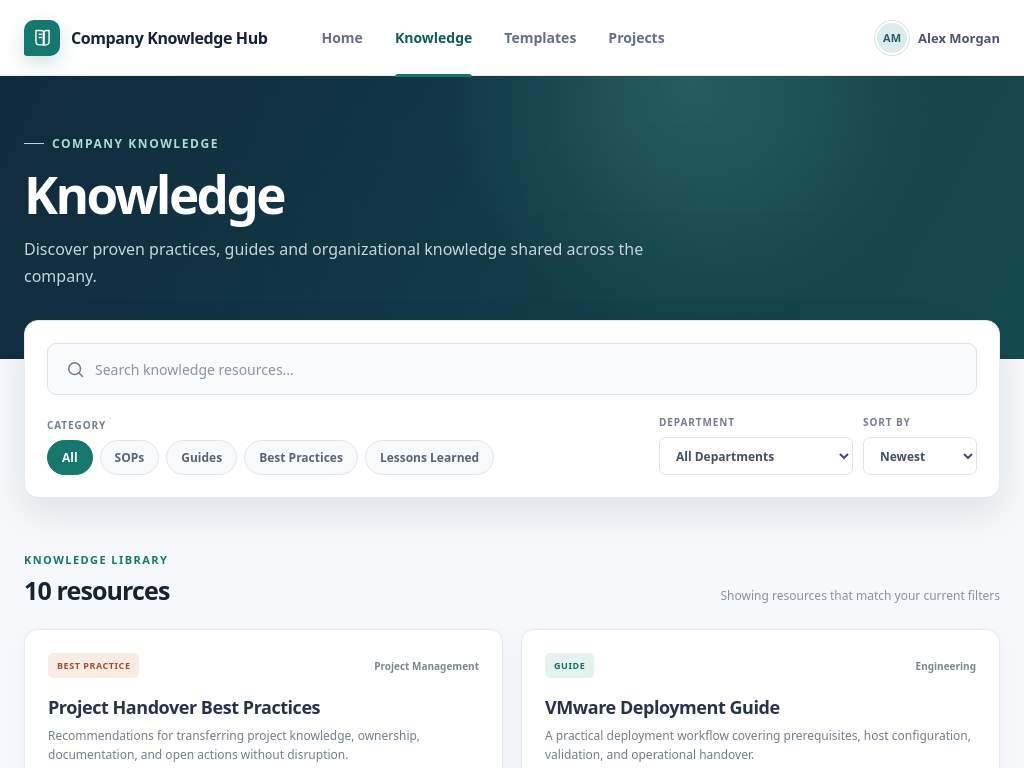
Test: KnowledgePage › searches across the local resource data
Type "VMware" into the search field labelled "Search knowledge resources". click: (536, 369)
box: [95, 344, 976, 394]
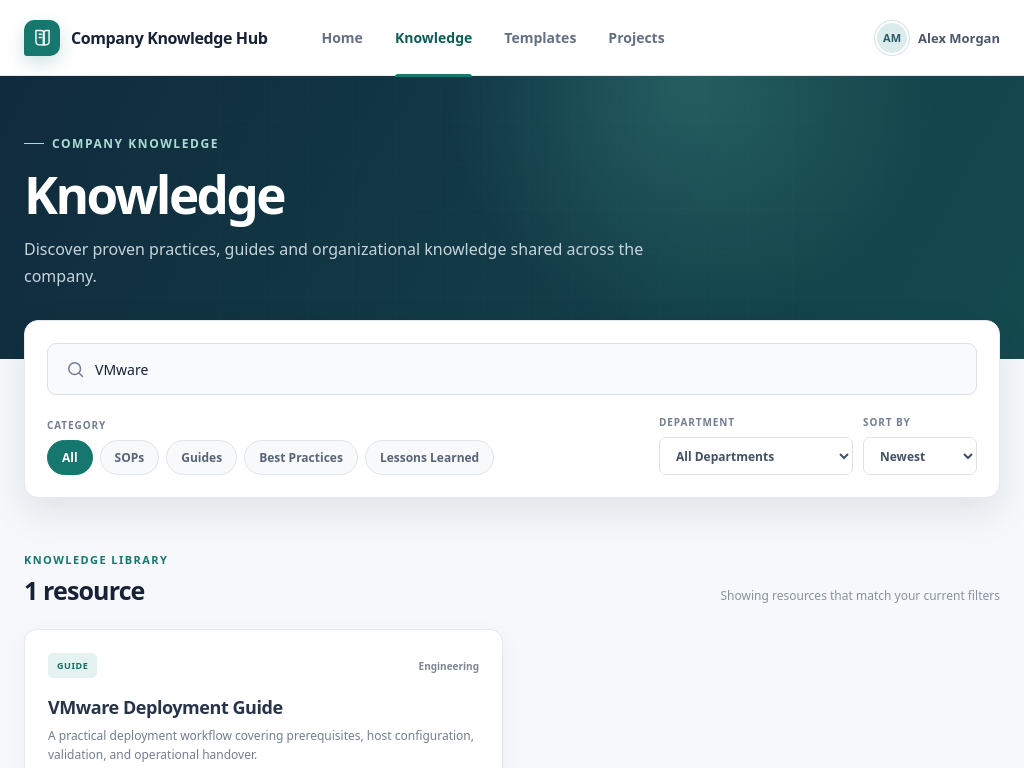
Expected: the heading "VMware Deployment Guide" is shown, [48, 695, 283, 719]
Result: the heading "1 resource" is shown at [24, 573, 144, 607]
